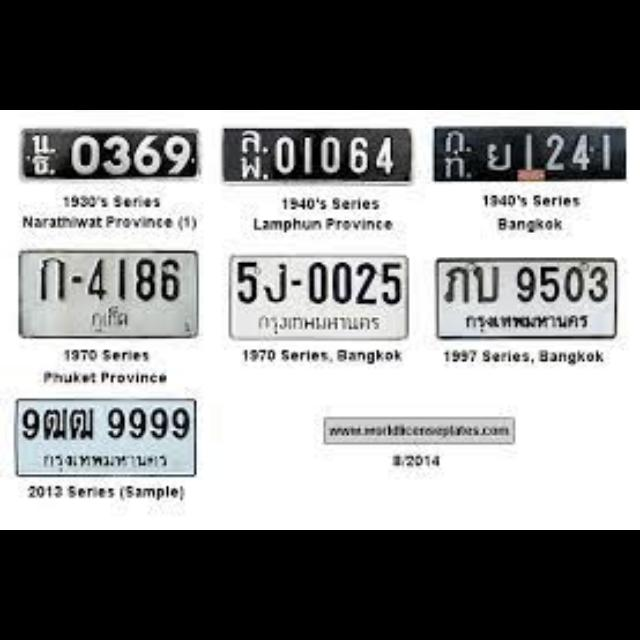licenseplate: (19, 250, 199, 340), (228, 254, 410, 342), (434, 257, 618, 341), (15, 398, 197, 478)
